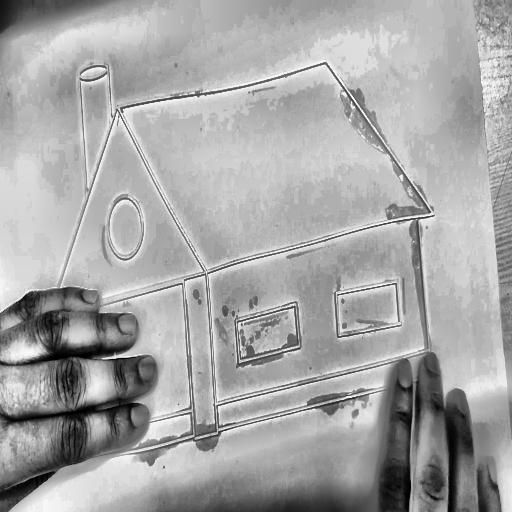house: (1, 21, 469, 485)
